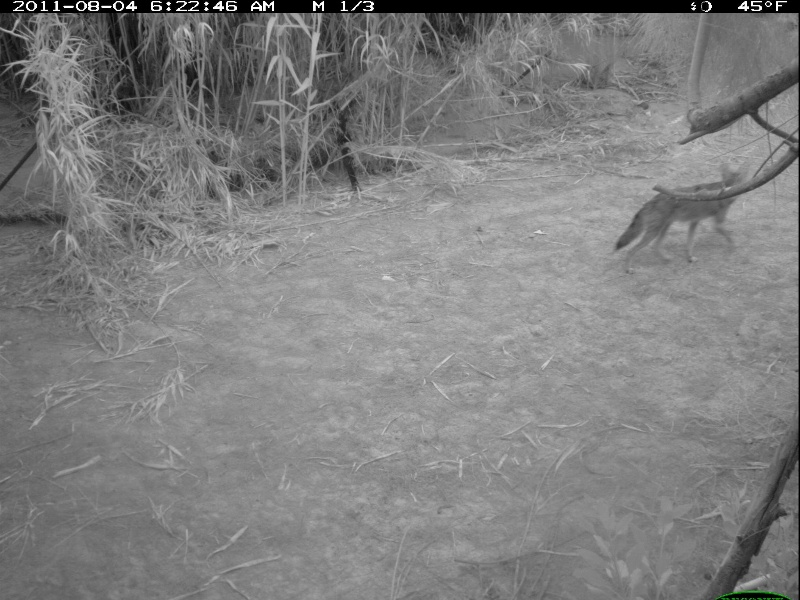coyote: (610, 157, 757, 277)
